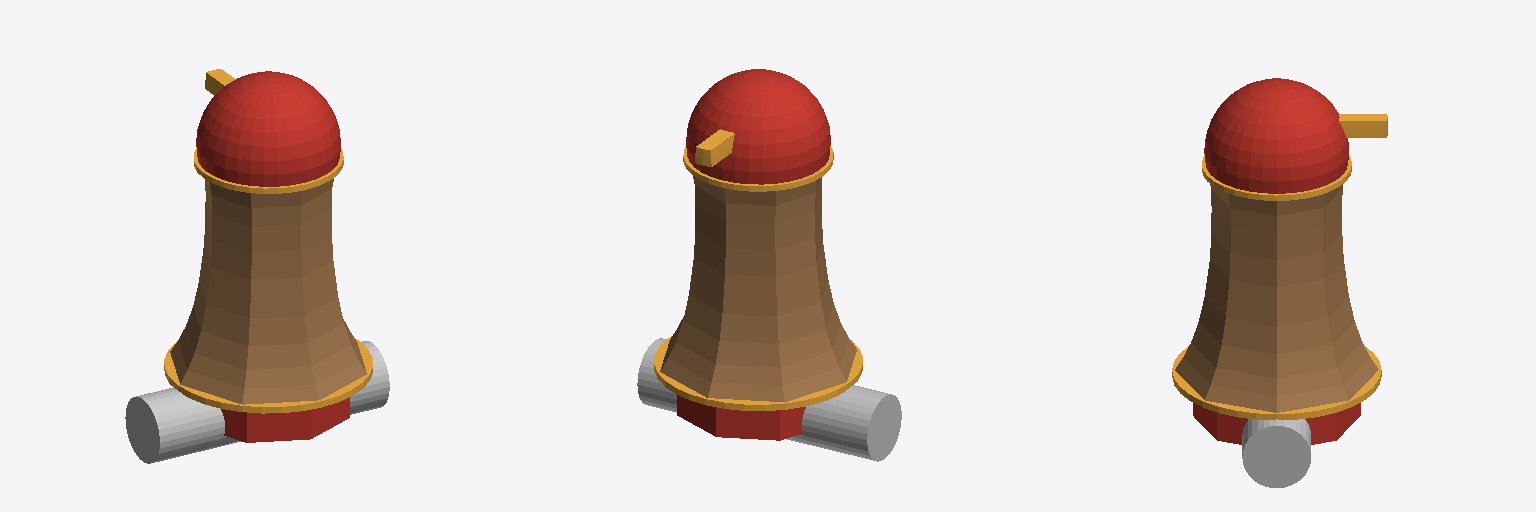
The picture shows the model from 3 angles: view 1: azimuth 30°, elevation 25°; view 2: azimuth 150°, elevation 25°; view 3: azimuth 270°, elevation 25°; orthographic projection.
Visible parts, largest first — view 1: Cylinder_Cylinder.006, Tunnel_cutout_Cylinder.004; view 2: Cylinder_Cylinder.006, Tunnel_cutout_Cylinder.004; view 3: Cylinder_Cylinder.006, Tunnel_cutout_Cylinder.004.
Boxes of the visible parts, x1=… form: Cylinder_Cylinder.006: x1=164, y1=69, x2=372, y2=442; Tunnel_cutout_Cylinder.004: x1=125, y1=341, x2=389, y2=463; Cylinder_Cylinder.006: x1=654, y1=69, x2=862, y2=440; Tunnel_cutout_Cylinder.004: x1=637, y1=338, x2=901, y2=461; Cylinder_Cylinder.006: x1=1172, y1=78, x2=1387, y2=444; Tunnel_cutout_Cylinder.004: x1=1242, y1=419, x2=1310, y2=487.
Size of the model in its own units: 6.3 by 9.24 by 5.12.
2 materials, 1 textured.